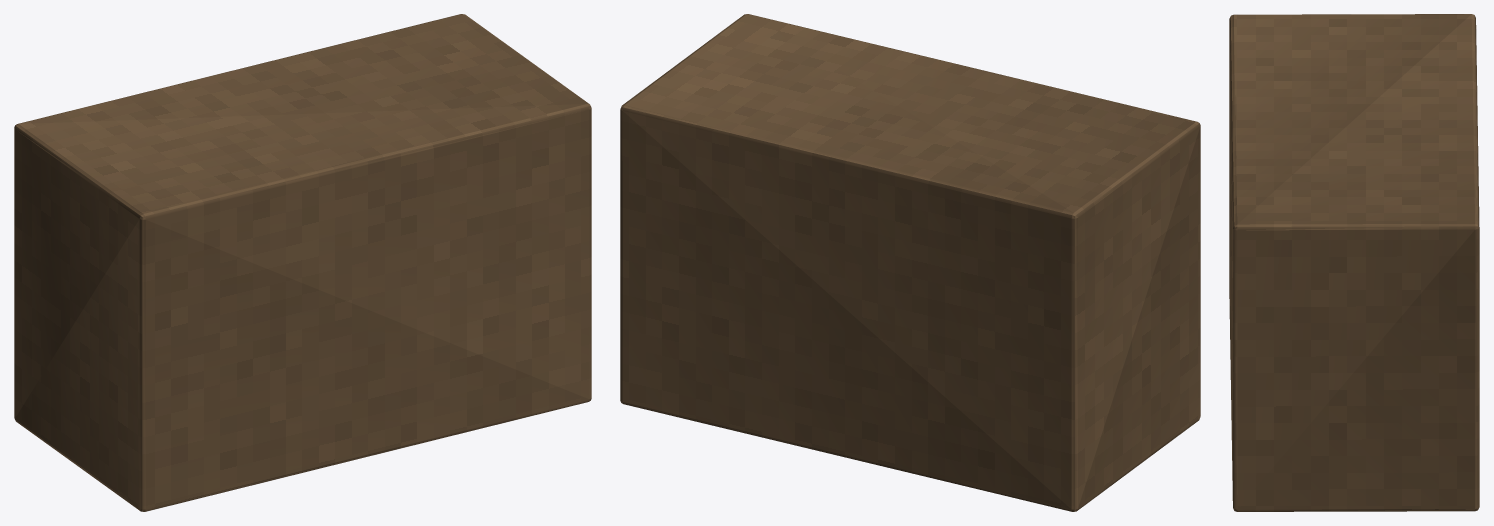
The model's file is box_med.glb.
3 renders of one model, left to right at view 1: azimuth 30°, elevation 25°; view 2: azimuth 150°, elevation 25°; view 3: azimuth 270°, elevation 25°, orthographic. The views are drawn at different scales.
Parts seen in each view (by area): view 1: box_med; view 2: box_med; view 3: box_med.
Boxes of the visible parts, left/top/right/bottom form: box_med: left=14, top=14, right=591, bottom=511; box_med: left=620, top=14, right=1200, bottom=511; box_med: left=1229, top=14, right=1479, bottom=511.
Size of the model in its own units: 0.604 by 0.378 by 0.2981.
Materials: 1 (1 with a texture image).
